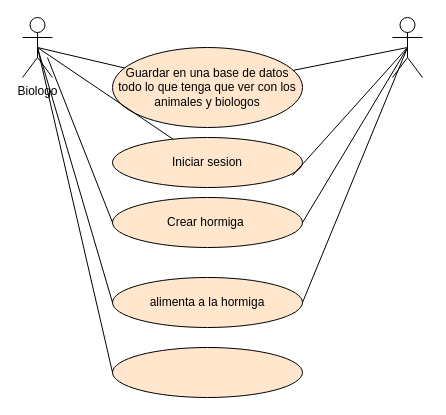
The diagram is 446 pixels wide and 415 high, and some of its shapes have lost their labels. Each missing label, with the centre of its shape:
elimina hormiga: point 207,372
Sistema: point 407,47
